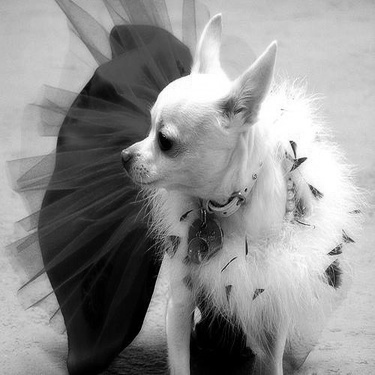dog: (84, 6, 365, 372)
